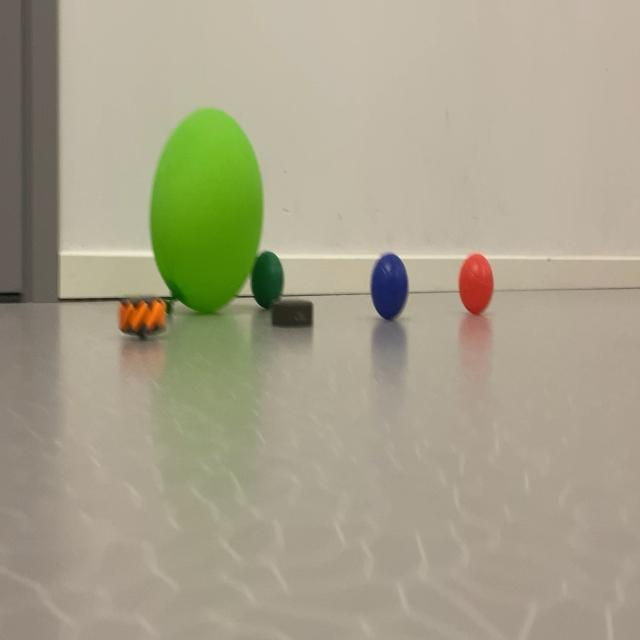7: (451, 244, 515, 366)
green ball: (362, 238, 416, 358)
red ball: (242, 234, 288, 330)
